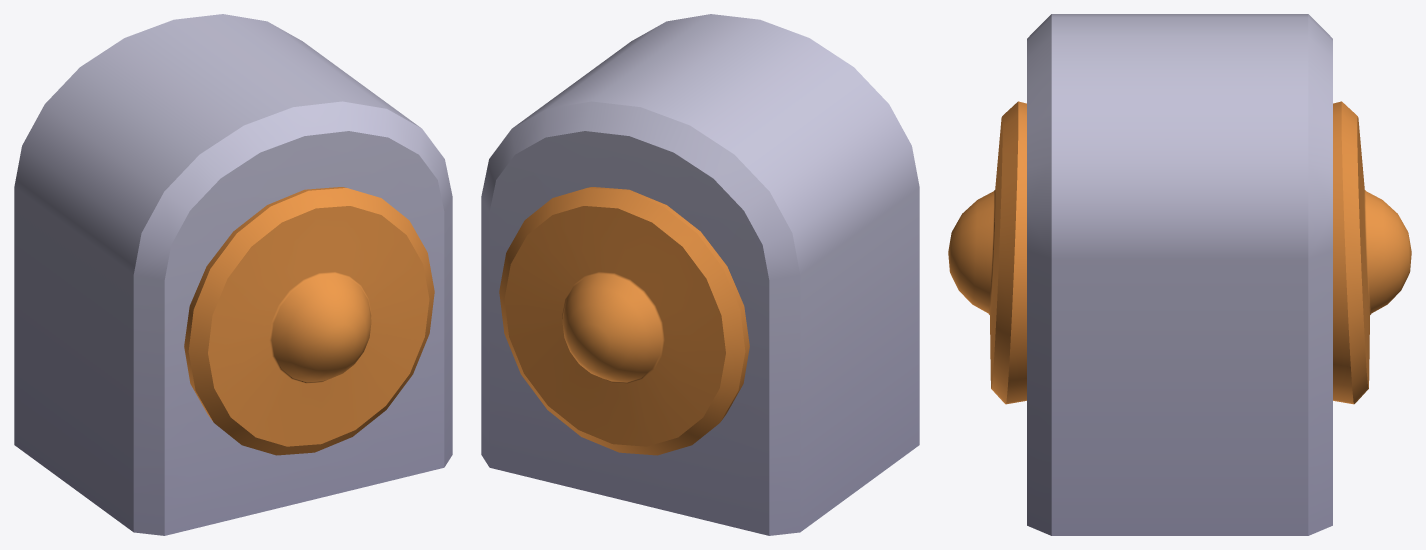
File: Door1.fbx
3 views of the same model, side by side, from view 1: azimuth 30°, elevation 25°; view 2: azimuth 150°, elevation 25°; view 3: azimuth 270°, elevation 25° (orthographic). The views are drawn at different scales.
Parts seen in each view (by area): view 1: Door1; view 2: Door1; view 3: Door1.
Boxes of the visible parts, x1,y1,x2,y2 form: Door1: (14, 14, 452, 535); Door1: (481, 14, 919, 535); Door1: (948, 14, 1411, 535).
Size of the model in its own units: 259 by 300 by 303.
